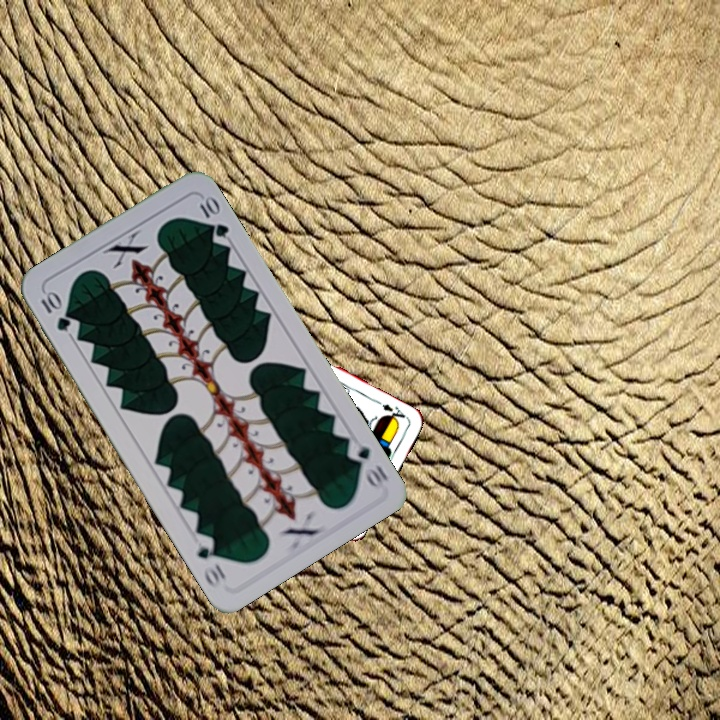EA: (378, 400, 410, 425)
G10: (342, 435, 391, 491), (36, 286, 73, 334)
